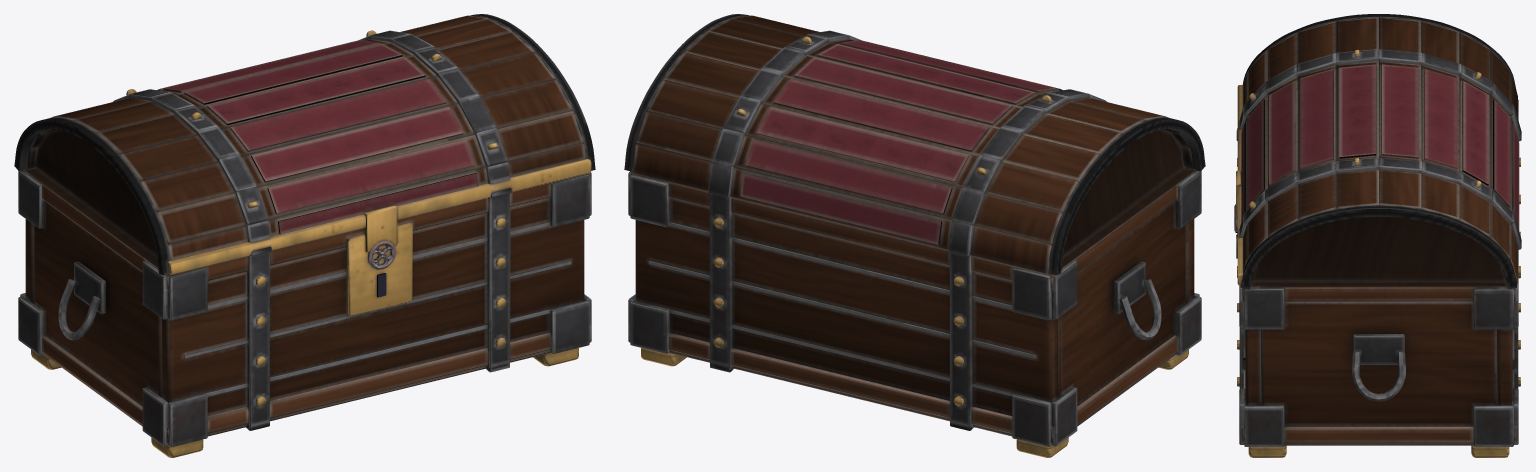
Rendered from GearChest.fbx.
3 views of the same model, side by side, from view 1: azimuth 30°, elevation 25°; view 2: azimuth 150°, elevation 25°; view 3: azimuth 270°, elevation 25° (orthographic). The views are drawn at different scales.
Visible parts, largest first — view 1: GearChest_Main, GearChest_Lid; view 2: GearChest_Main, GearChest_Lid; view 3: GearChest_Lid, GearChest_Main.
Boxes of the visible parts, x1,y1,x2,y2 form: GearChest_Main: (18,170,591,457); GearChest_Lid: (14,14,595,275); GearChest_Main: (628,168,1201,457); GearChest_Lid: (624,14,1205,275); GearChest_Lid: (1236,14,1521,289); GearChest_Main: (1234,99,1520,457).
Bounding box in the file's own units: 459 × 260 × 258.
